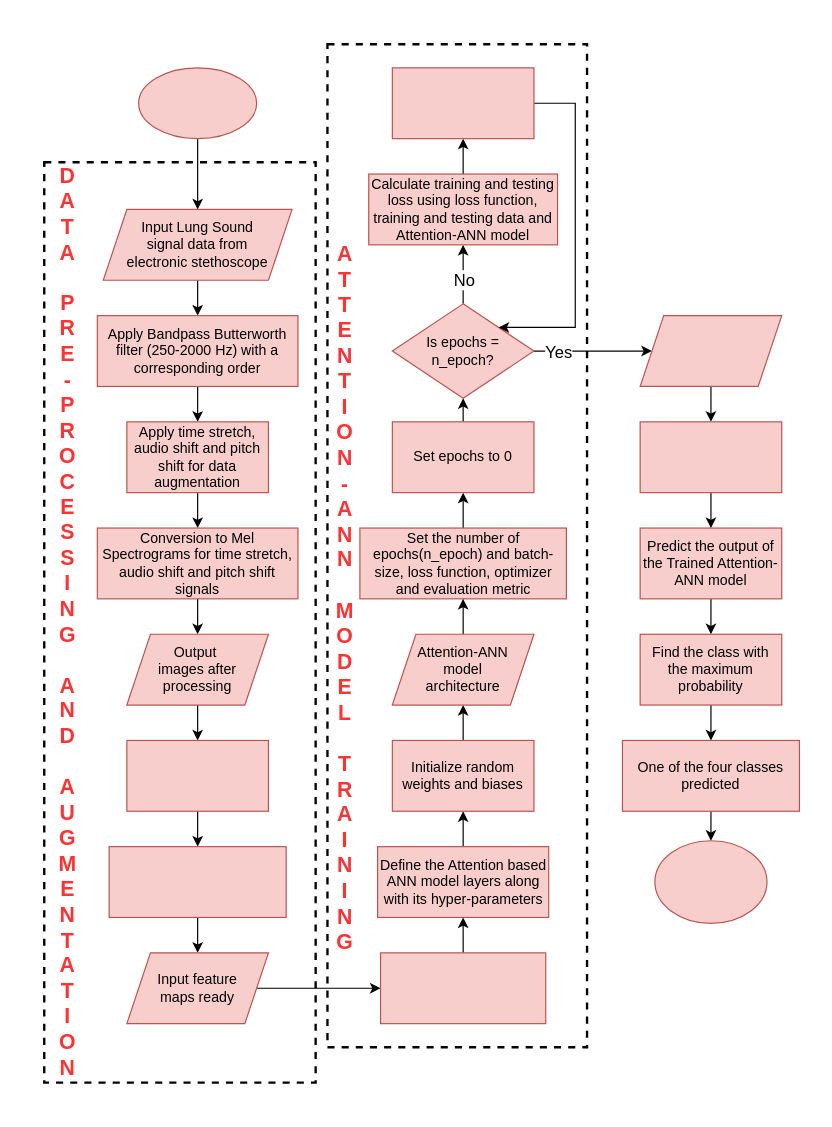
Some shapes in this 832 by 1127 pixel diagram are drawn without their labels. Each missing label, with the box of its shape:
Choose a pre-trained model: (126, 739, 268, 811)
Feed in unseen data: (639, 421, 782, 493)
Predict image feature maps using preprocessed images and pre-trained model: (108, 845, 286, 917)
Split the feature maps into train data and test data: (379, 952, 546, 1024)
Start: (137, 67, 257, 139)
Stop: (654, 840, 767, 923)
Trained Attention-ANN model: (639, 314, 782, 386)
Update the weights and biases, epochs = epochs + 1: (391, 67, 534, 139)
